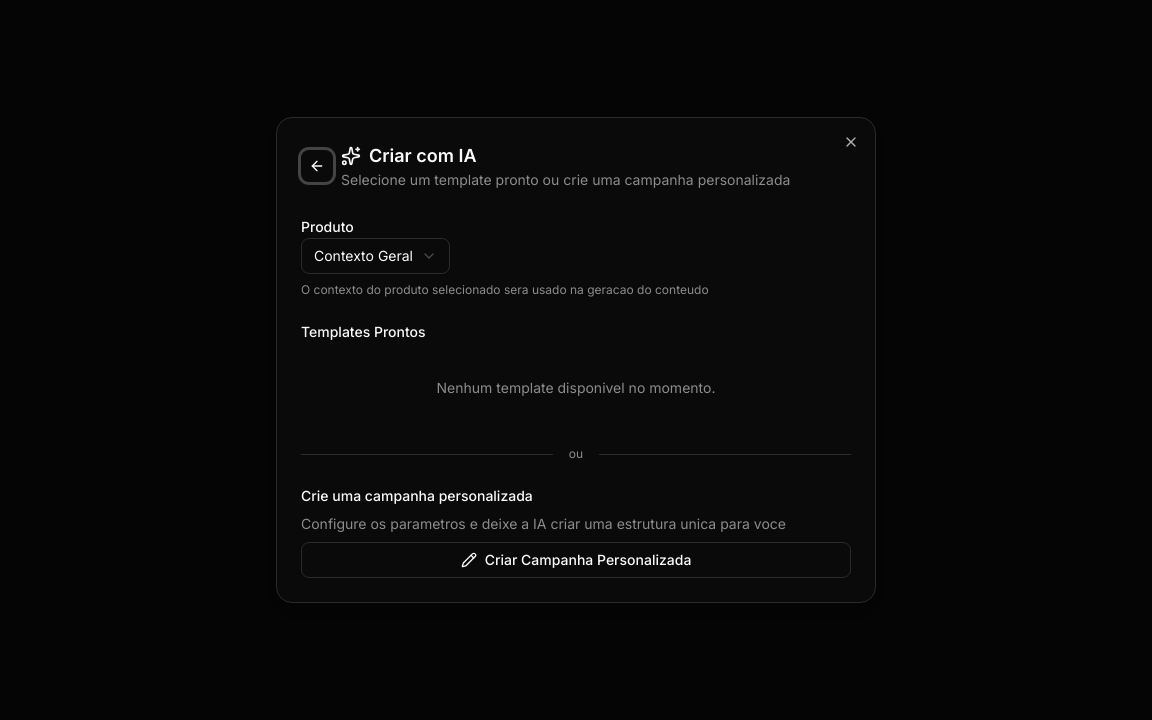
Scenario: AICampaignWizard › Form Rendering (AC #2) › navigates back to template selection when back-to-templates is clicked
Click the button with test id "template-custom-button" at point(576, 560), box [301,542,851,578]
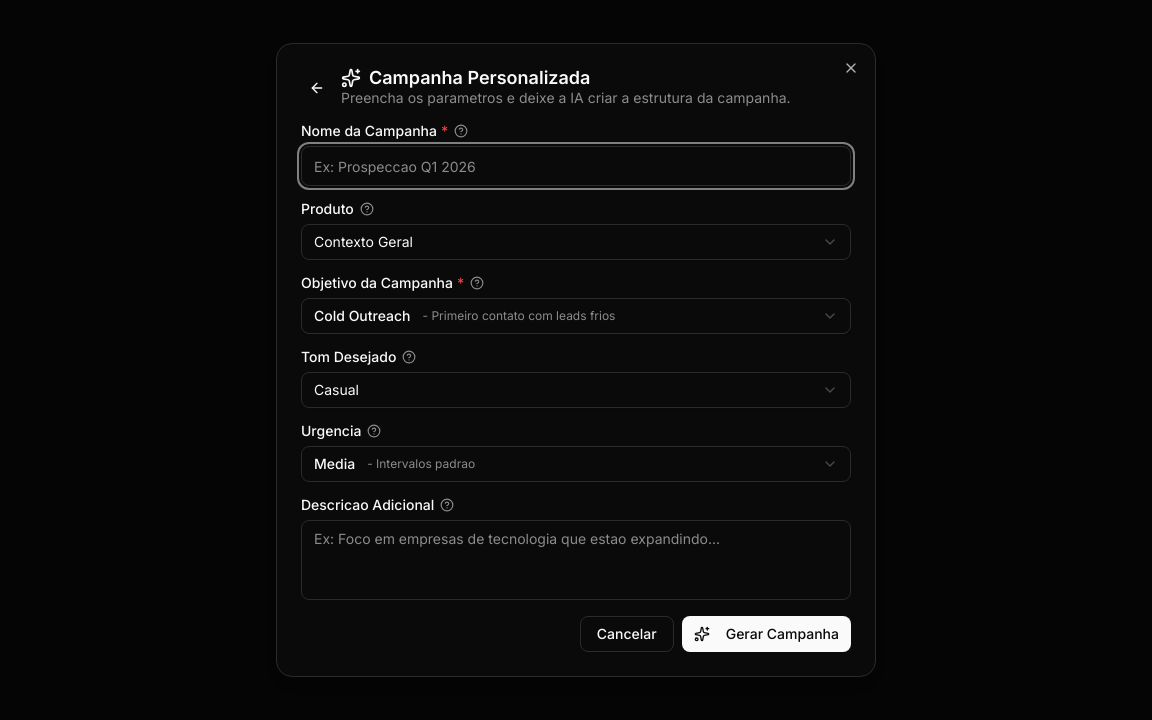
Expected: the field with test id "wizard-campaign-name" is shown, [301,146,851,186]
Click the button with test id "back-to-templates" at point(317, 88), box [301,72,333,104]
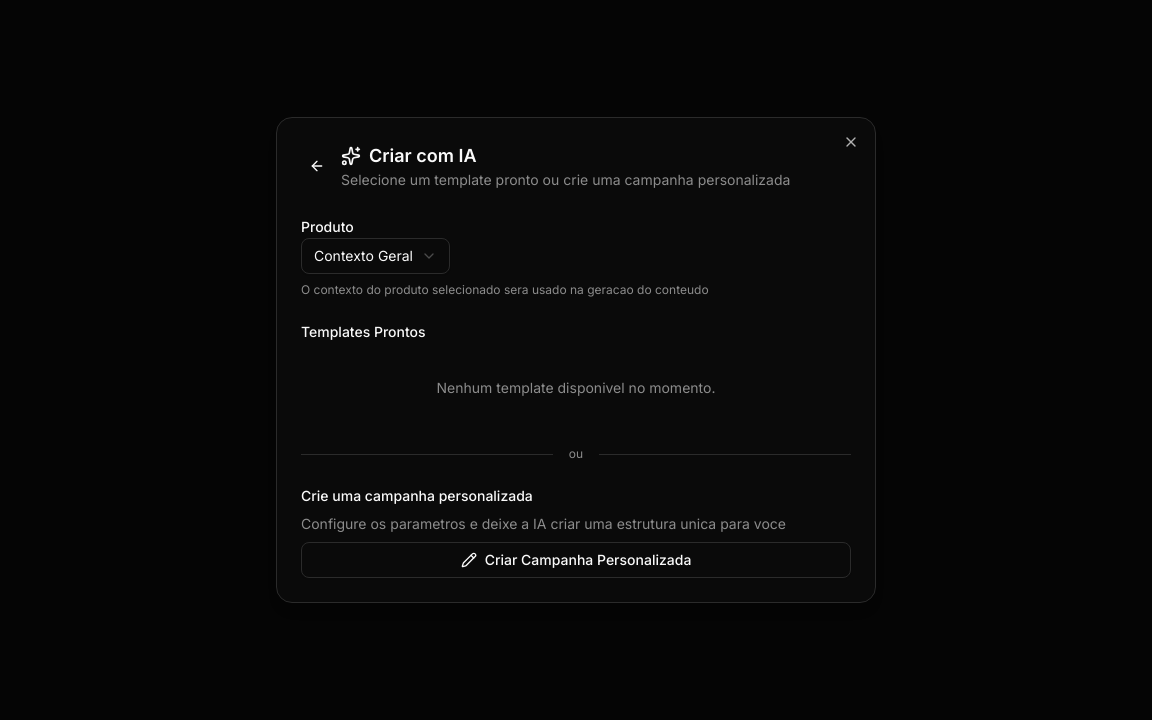
Expected: the element with test id "template-selector" is shown, [301,142,851,578]
